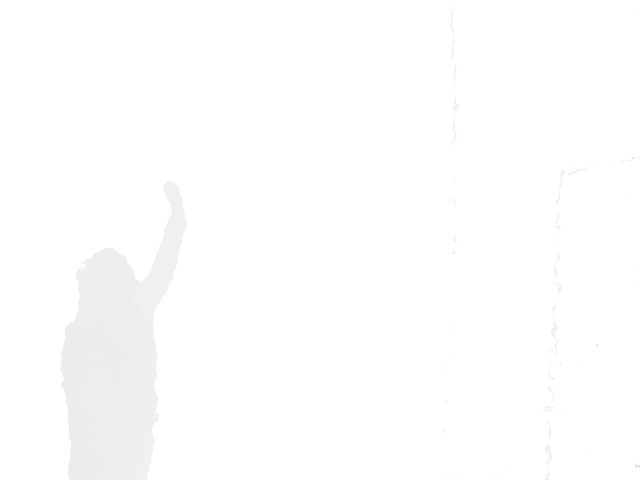hand: (162, 178, 185, 210)
head: (73, 248, 139, 316)
person: (59, 179, 188, 480)
